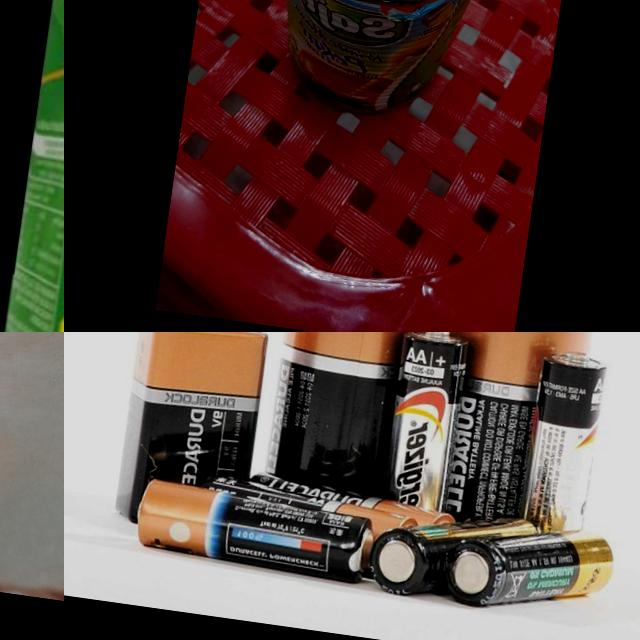bateria: (415, 332, 599, 527), (113, 332, 271, 538), (261, 332, 442, 505), (132, 478, 375, 586), (438, 508, 616, 624), (365, 500, 539, 614), (376, 332, 476, 516), (518, 345, 606, 538)
caixinha: (0, 0, 64, 332)
lata: (253, 0, 511, 125)
